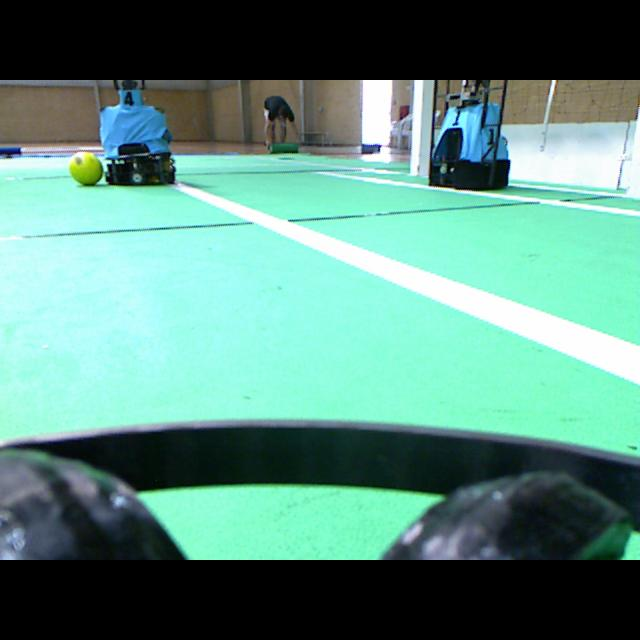ball: (69, 152, 102, 184)
goal: (410, 80, 434, 177)
